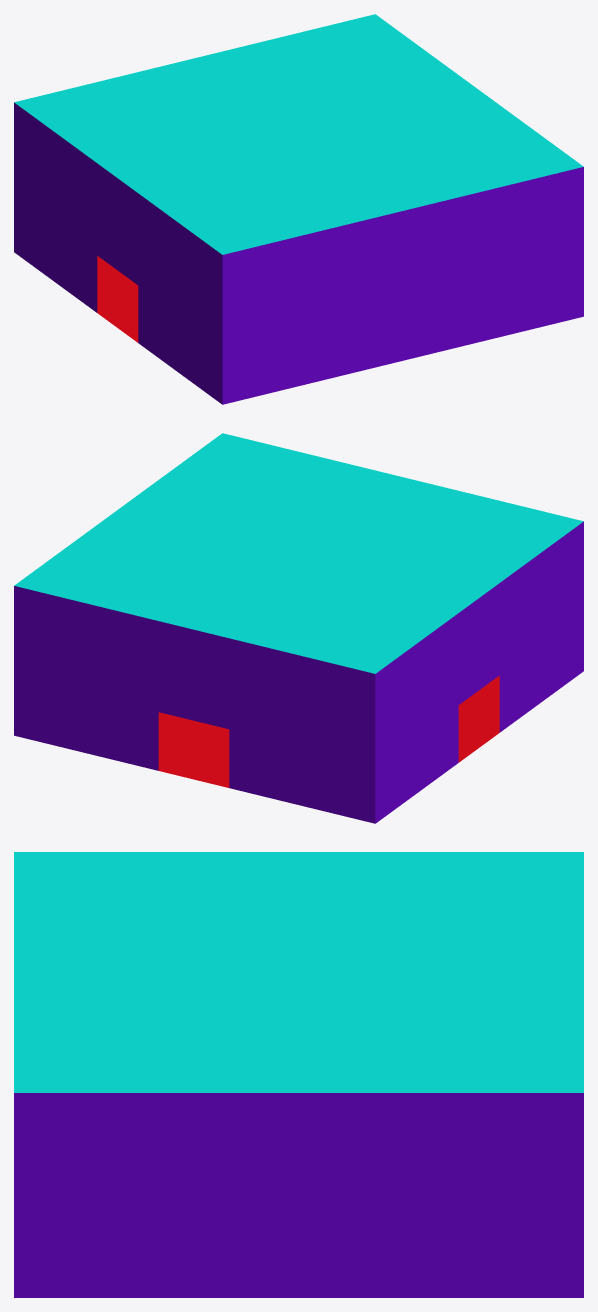
3 renders of one model, top to bottom at view 1: azimuth 30°, elevation 25°; view 2: azimuth 150°, elevation 25°; view 3: azimuth 270°, elevation 25°, orthographic. The views are drawn at different scales.
Parts seen in each view (by area): view 1: Cube.035; view 2: Cube.035; view 3: Cube.035.
Boxes of the visible parts, bbox=[...] form: Cube.035: bbox=[14, 14, 583, 404]; Cube.035: bbox=[14, 433, 583, 823]; Cube.035: bbox=[14, 852, 583, 1297].
Size of the model in its own units: 4364 by 1729 by 4361.
